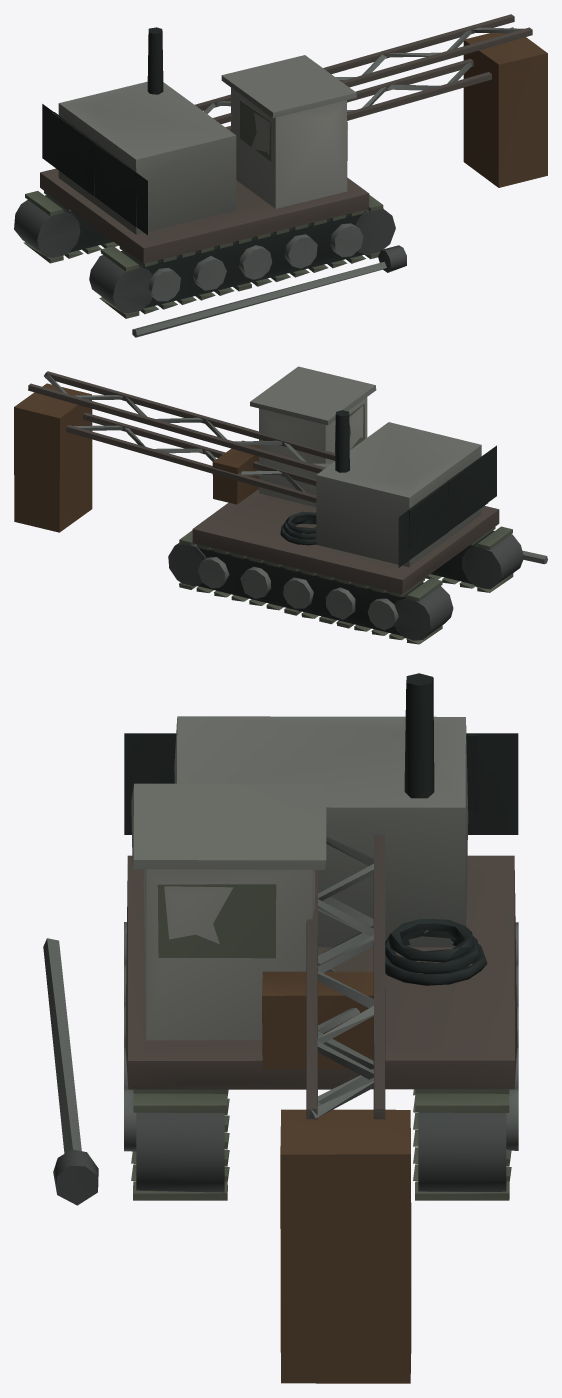
File: drill_rig_a_lod2.glb
3 views of the same model, one above another, from view 1: azimuth 30°, elevation 25°; view 2: azimuth 150°, elevation 25°; view 3: azimuth 270°, elevation 25° (orthographic). The views are drawn at different scales.
Parts seen in each view (by area): view 1: Surface.001; view 2: Surface.001; view 3: Surface.001.
Boxes of the visible parts, x1,y1,x2,y2 form: Surface.001: [14, 14, 547, 337]; Surface.001: [14, 366, 547, 644]; Surface.001: [43, 673, 518, 1383].
Bounding box in the file's own units: 8.34 × 3.48 × 3.88.
